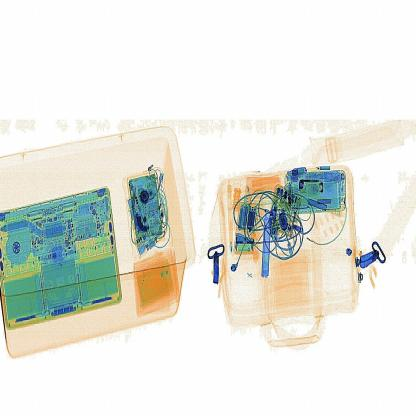pliers: (255, 202, 280, 286)
